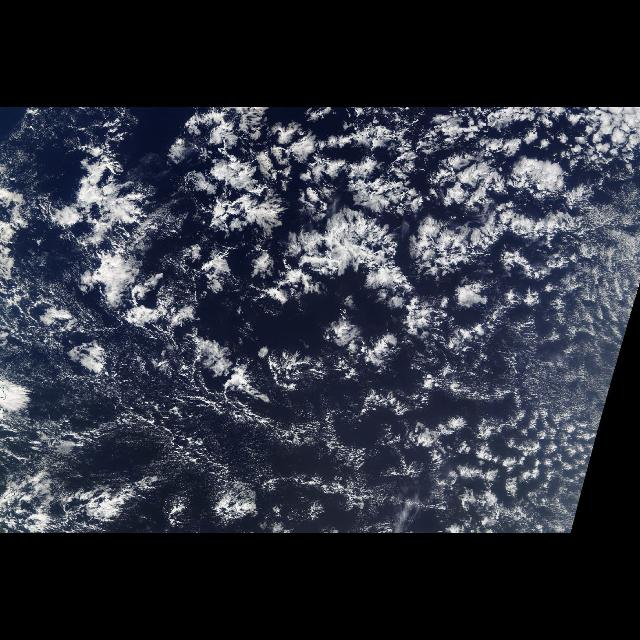Fish: (106, 386, 368, 520)
Flower: (40, 108, 636, 404)
Gravel: (8, 389, 104, 529)
Sugar: (336, 187, 636, 527)
